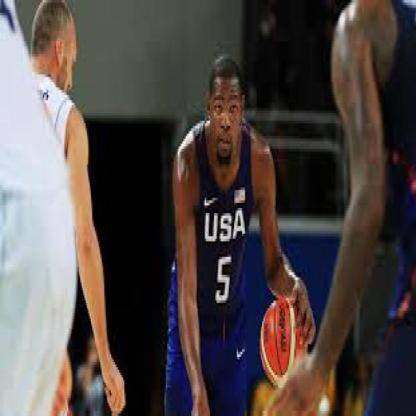basketball: (261, 300, 308, 396)
